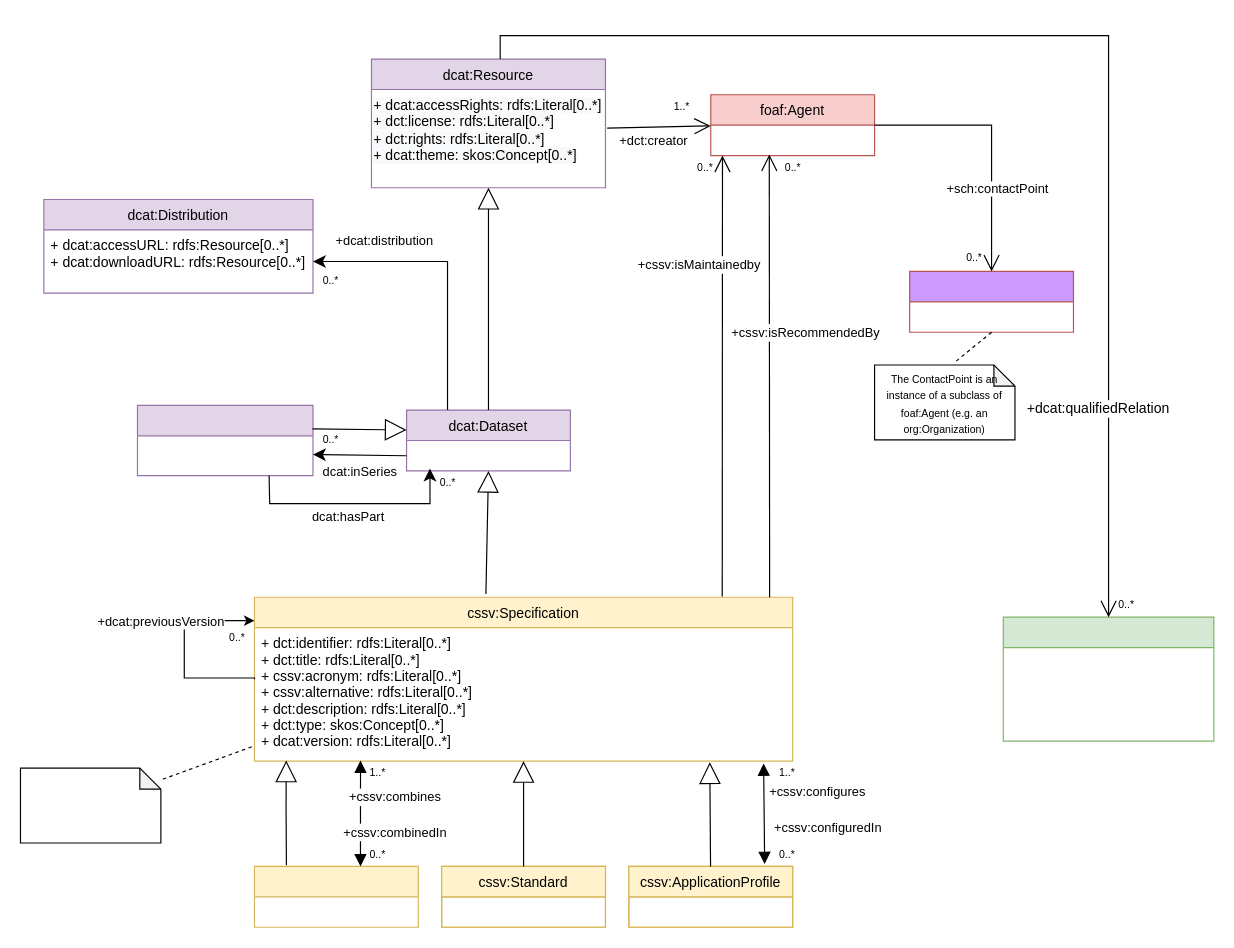
Image size: 1234x948. Some labels were removed from this diagram. Each missing label, with the centre of its shape:
cssv:Family: pixel 335 896
dcat:DatasetSeries: pixel 224 440
Note that the descendants of the specifications are all "disjoint".: pixel 90 805
prof:Profile: pixel 1108 678
sch:ContactPoint: pixel 991 301
